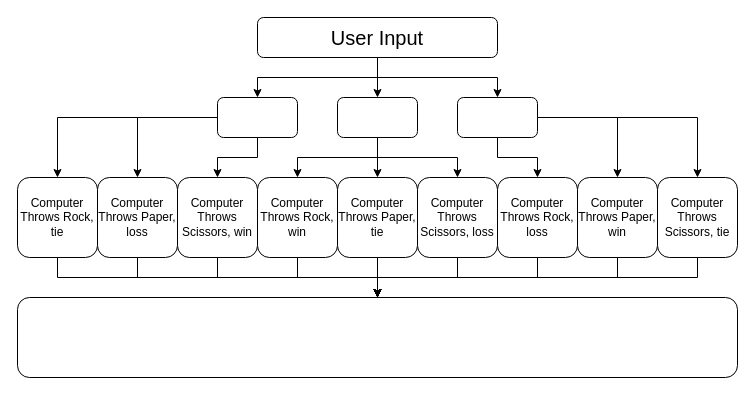
Some shapes in this 755 by 395 pixel diagram are drawn without their labels. The shapes that lost their labels are listed below. From the top down, each one's centre as x and y in pixels, then its label:
the point at 257,117: Rock
the point at 377,117: Paper
the point at 497,117: Scissors
the point at 377,337: REPEAT/END GAME
